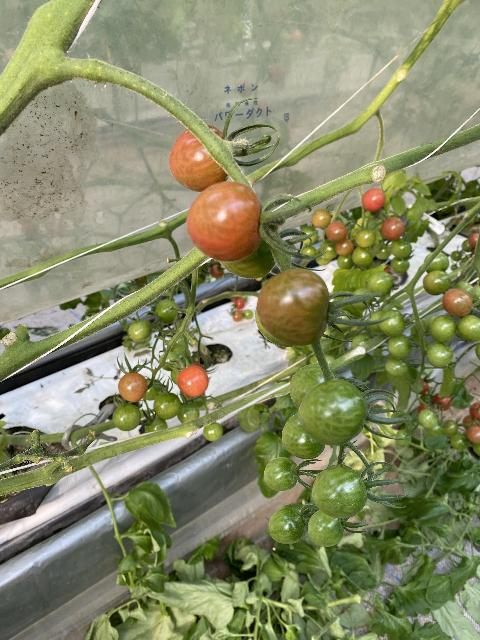l_fully_ripened: (177, 366, 209, 397), (380, 216, 405, 240), (361, 188, 386, 211)
l_green: (297, 379, 366, 446), (311, 465, 368, 518), (217, 236, 277, 279), (288, 362, 339, 408), (281, 413, 326, 459), (268, 504, 311, 544), (308, 510, 345, 547), (263, 458, 299, 491), (153, 392, 181, 420), (113, 403, 141, 431), (379, 309, 405, 338), (422, 270, 452, 295), (367, 271, 394, 297), (430, 316, 455, 343), (387, 333, 412, 359), (427, 343, 454, 367), (155, 299, 178, 325), (457, 315, 480, 341), (423, 252, 450, 274), (128, 320, 153, 342), (177, 403, 199, 424), (385, 356, 408, 376), (390, 238, 412, 258), (417, 409, 439, 429), (203, 422, 223, 442), (355, 228, 376, 247), (352, 247, 373, 266), (320, 238, 339, 259), (143, 379, 161, 401), (158, 352, 178, 371), (144, 418, 168, 433), (390, 257, 410, 273), (337, 255, 355, 269)
l_half_ripened: (186, 181, 263, 262), (257, 269, 330, 345), (168, 125, 234, 193), (118, 372, 148, 402), (441, 288, 473, 316), (325, 222, 347, 243), (335, 238, 354, 256), (312, 210, 330, 228)
